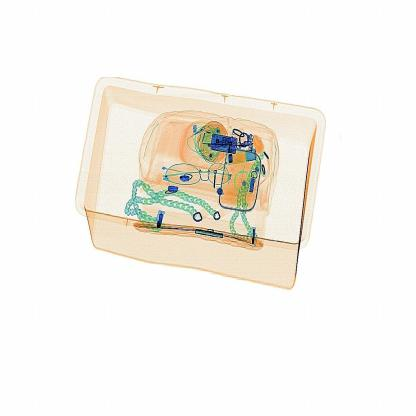pliers: (200, 134, 257, 162)
